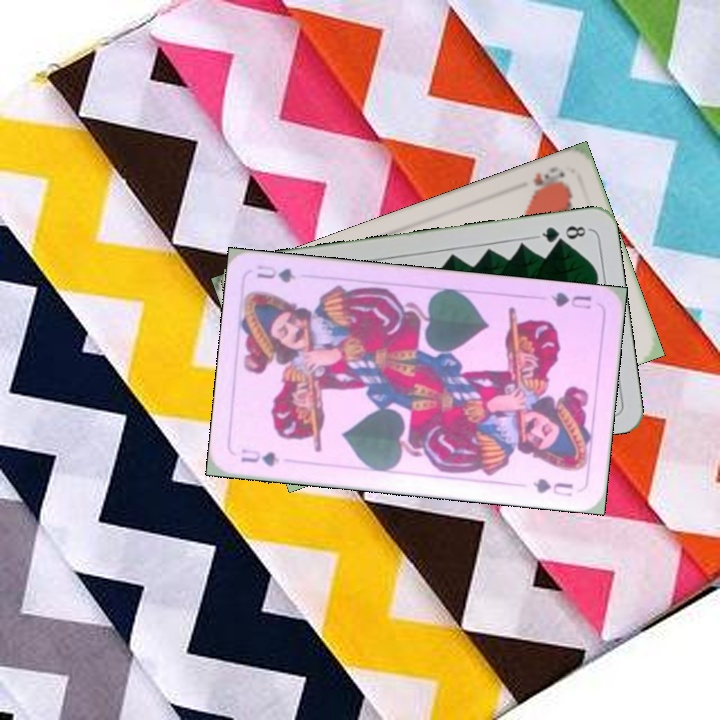G8: (532, 221, 592, 246)
GU: (547, 288, 594, 312), (236, 445, 282, 469)
HO: (525, 162, 568, 198)
